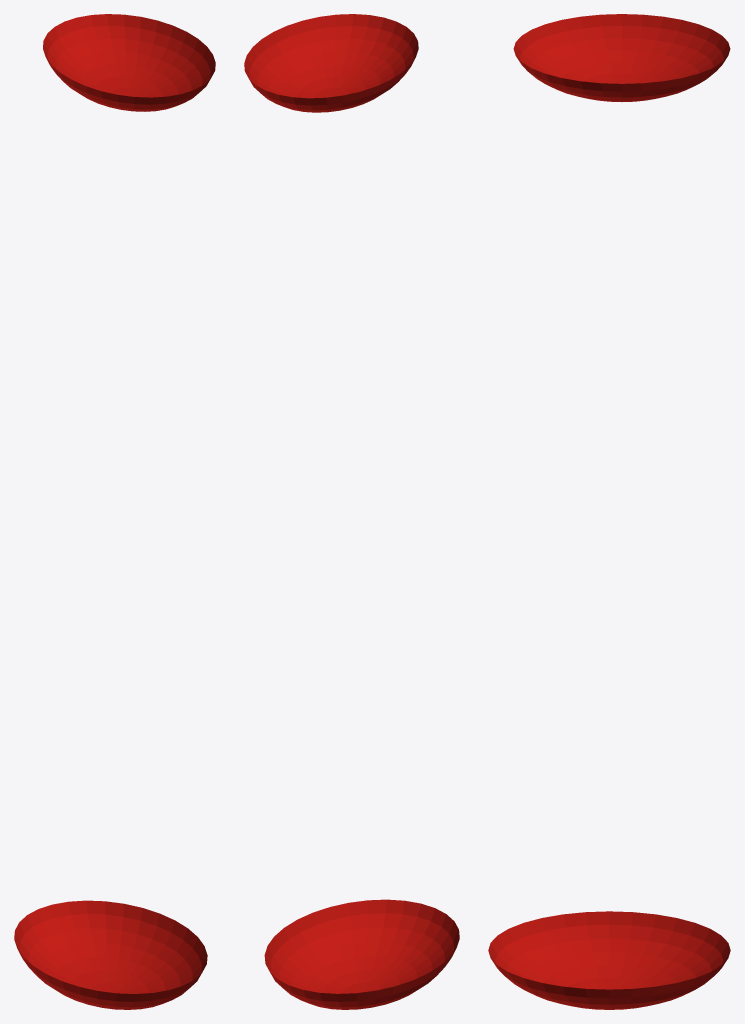
Rendered from Tazones.obj.
The picture shows the model from 3 angles, left to right: view 1: azimuth 30°, elevation 25°; view 2: azimuth 150°, elevation 25°; view 3: azimuth 270°, elevation 25°; orthographic projection. The views are drawn at different scales.
Parts seen in each view (by area): view 1: Esfera.004, Esfera; view 2: Esfera.004, Esfera; view 3: Esfera.004, Esfera.
Part boxes in pixels (bbox=[...]): Esfera.004: bbox=[14, 900, 207, 1009]; Esfera: bbox=[43, 14, 215, 111]; Esfera.004: bbox=[264, 899, 459, 1009]; Esfera: bbox=[244, 14, 418, 112]; Esfera.004: bbox=[488, 911, 730, 1009]; Esfera: bbox=[513, 14, 730, 101].
Size of the model in its own units: 3.22 by 16.67 by 3.81.
Materials: 2 (2 with a texture image).
